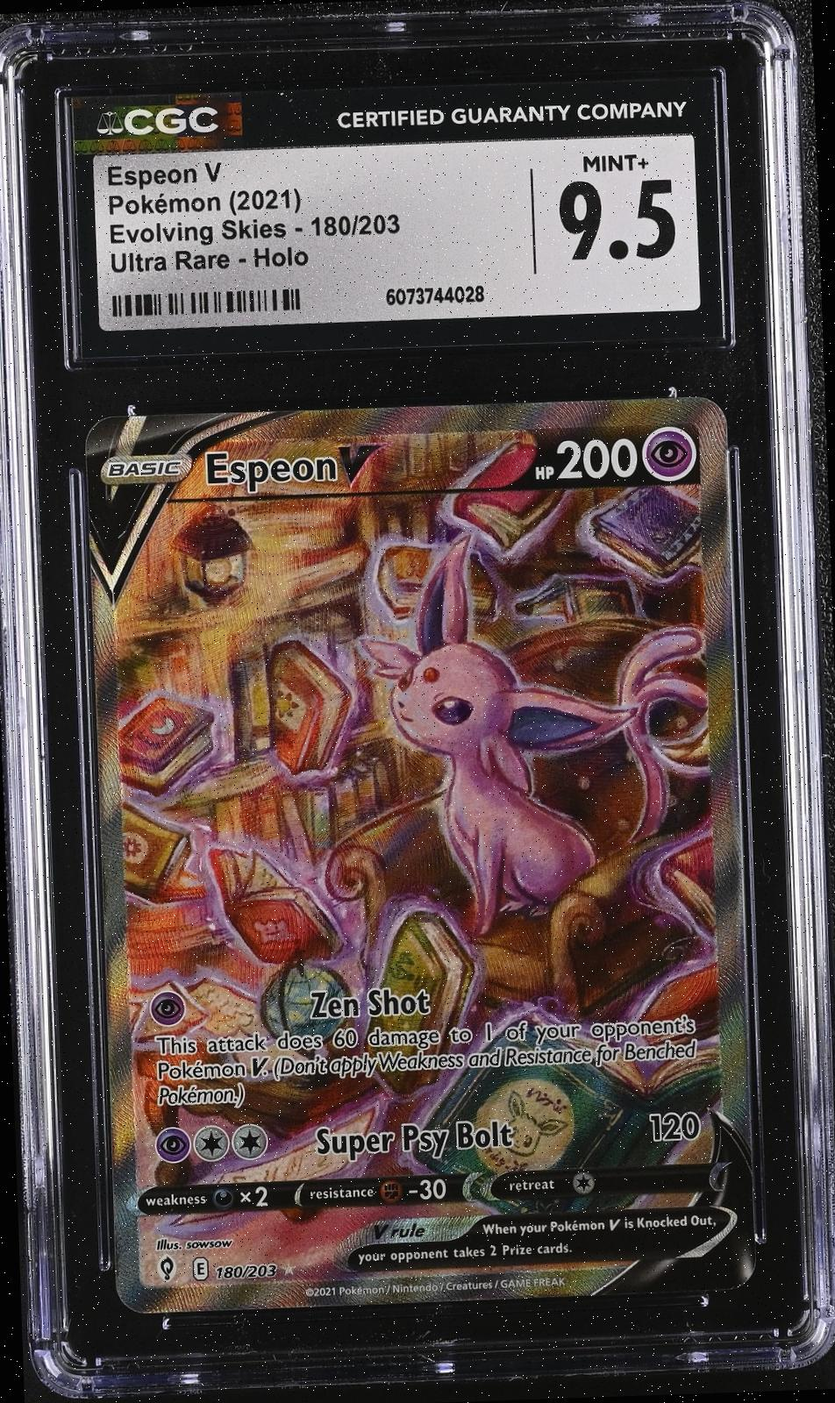card-2UtV: (83, 396, 757, 1315)
